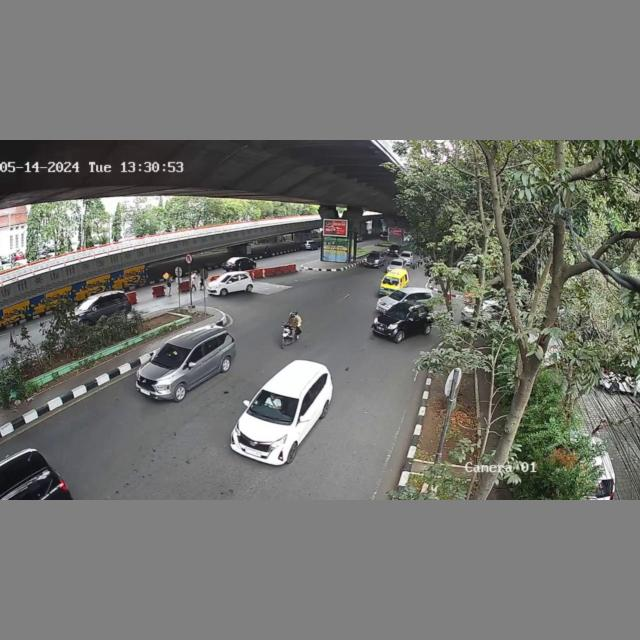windshield: (251, 387, 296, 422), (149, 343, 193, 371)
